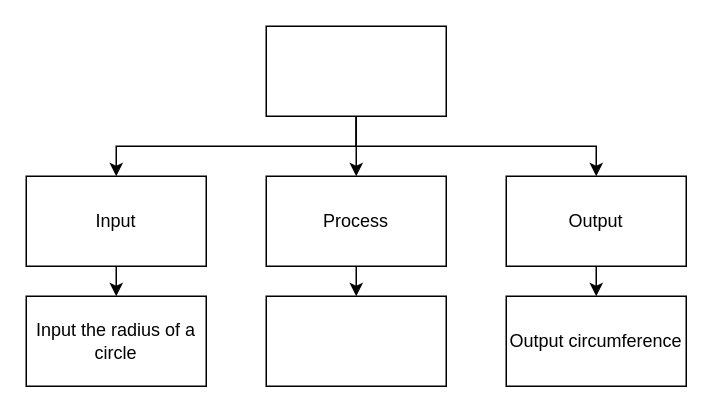
The diagram is 713 pixels wide and 413 high, and some of its shapes have lost their labels. The shapes that lost their labels are listed below. From the top down, each one's centre as x and y in pixels, then its label:
point (355, 70): Circumference of a circle
point (355, 340): Circumference = tau * radius
